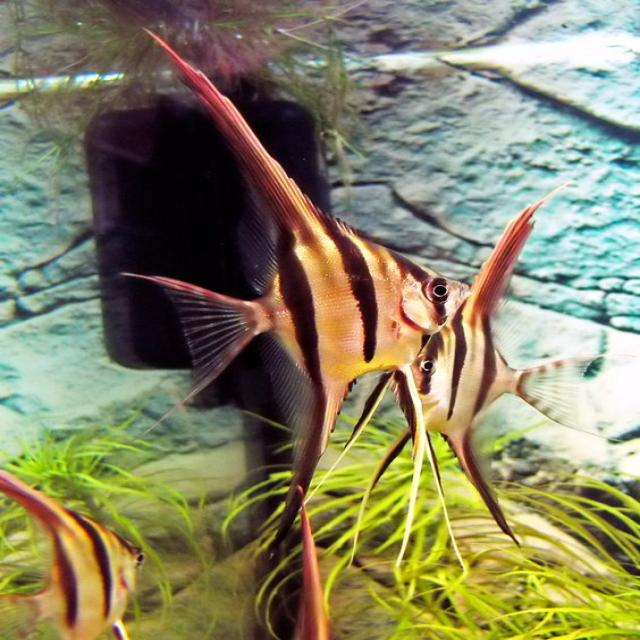AngelFish: (146, 31, 462, 534), (412, 200, 594, 553)
